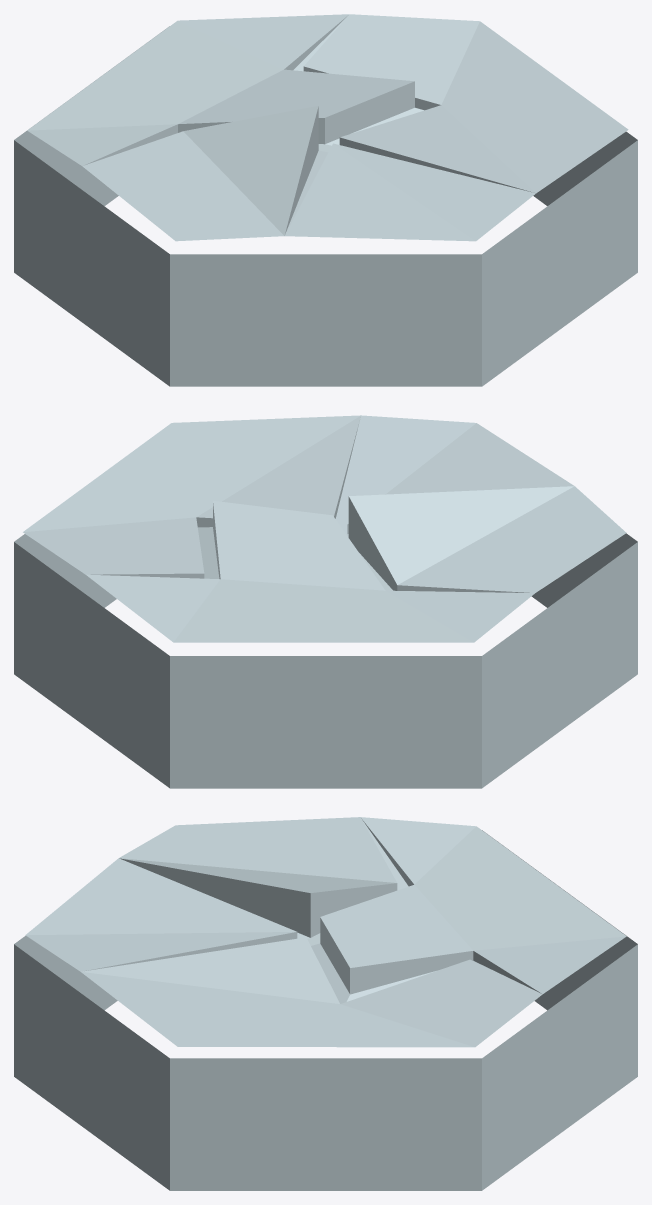
The model's file is tilequebrado.fbx.
3 views of the same model, one above another, from view 1: azimuth 30°, elevation 25°; view 2: azimuth 150°, elevation 25°; view 3: azimuth 270°, elevation 25° (orthographic).
Parts seen in each view (by area): view 1: Tile_Buraco_Closed.002; view 2: Tile_Buraco_Closed.002; view 3: Tile_Buraco_Closed.002.
Part boxes in pixels (box(x1,y1,x2,y2)): Tile_Buraco_Closed.002: box(14, 14, 637, 386); Tile_Buraco_Closed.002: box(14, 415, 637, 788); Tile_Buraco_Closed.002: box(14, 817, 637, 1190).
Size of the model in its own units: 173 by 62.32 by 200.
